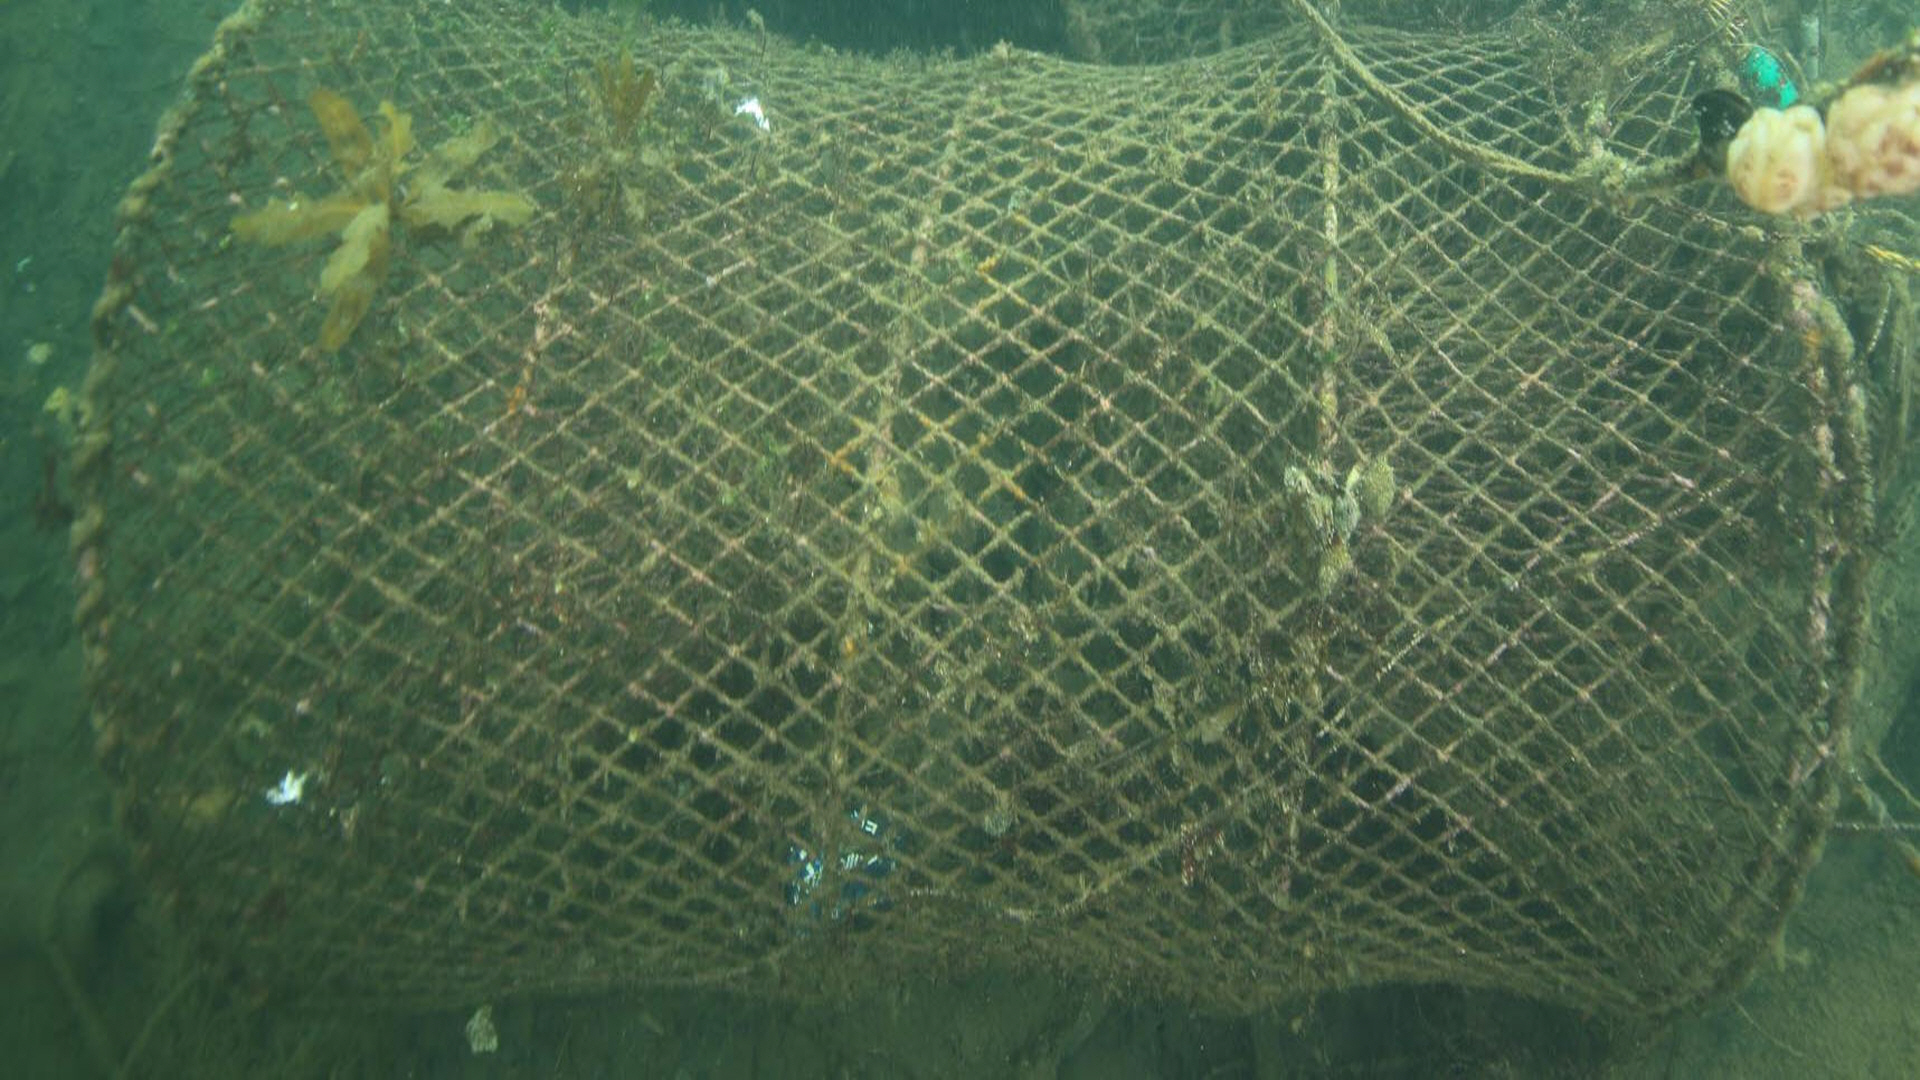spring fish trap: (70, 0, 1873, 1022)
